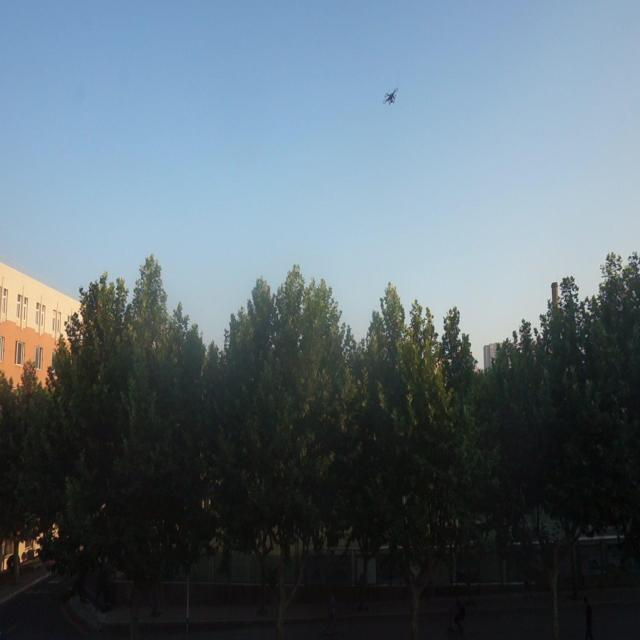UAV: (382, 87, 399, 106)
